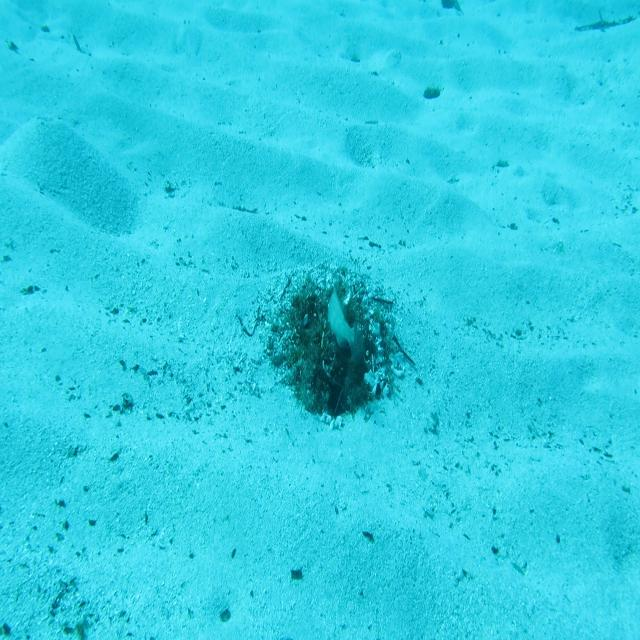NIP_CORE: (320, 290, 372, 357)
nest: (264, 272, 410, 433)
